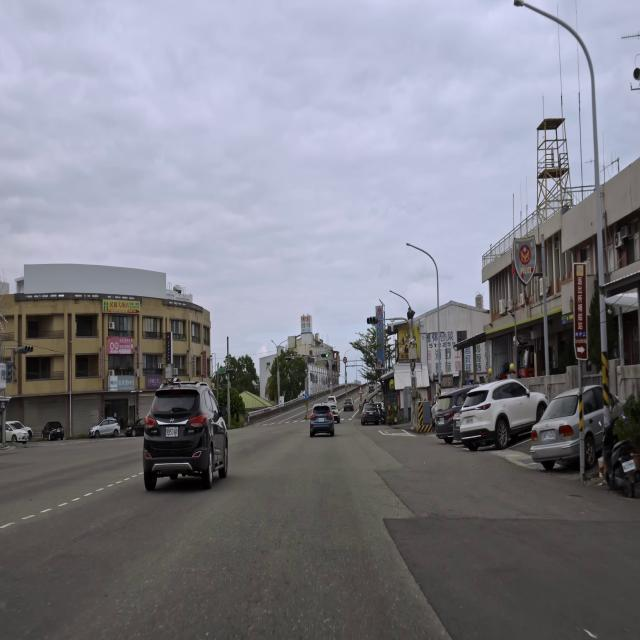green light: (322, 353, 328, 358)
